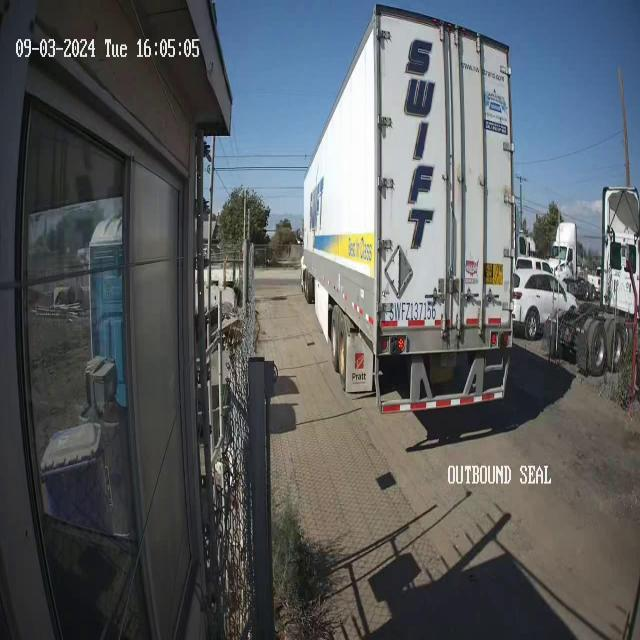TRUCK_OUT: (300, 4, 516, 412)
